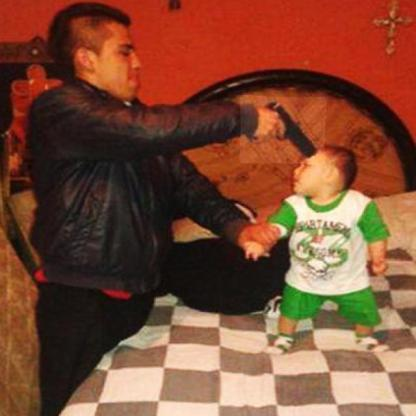handgun: (257, 96, 326, 164)
